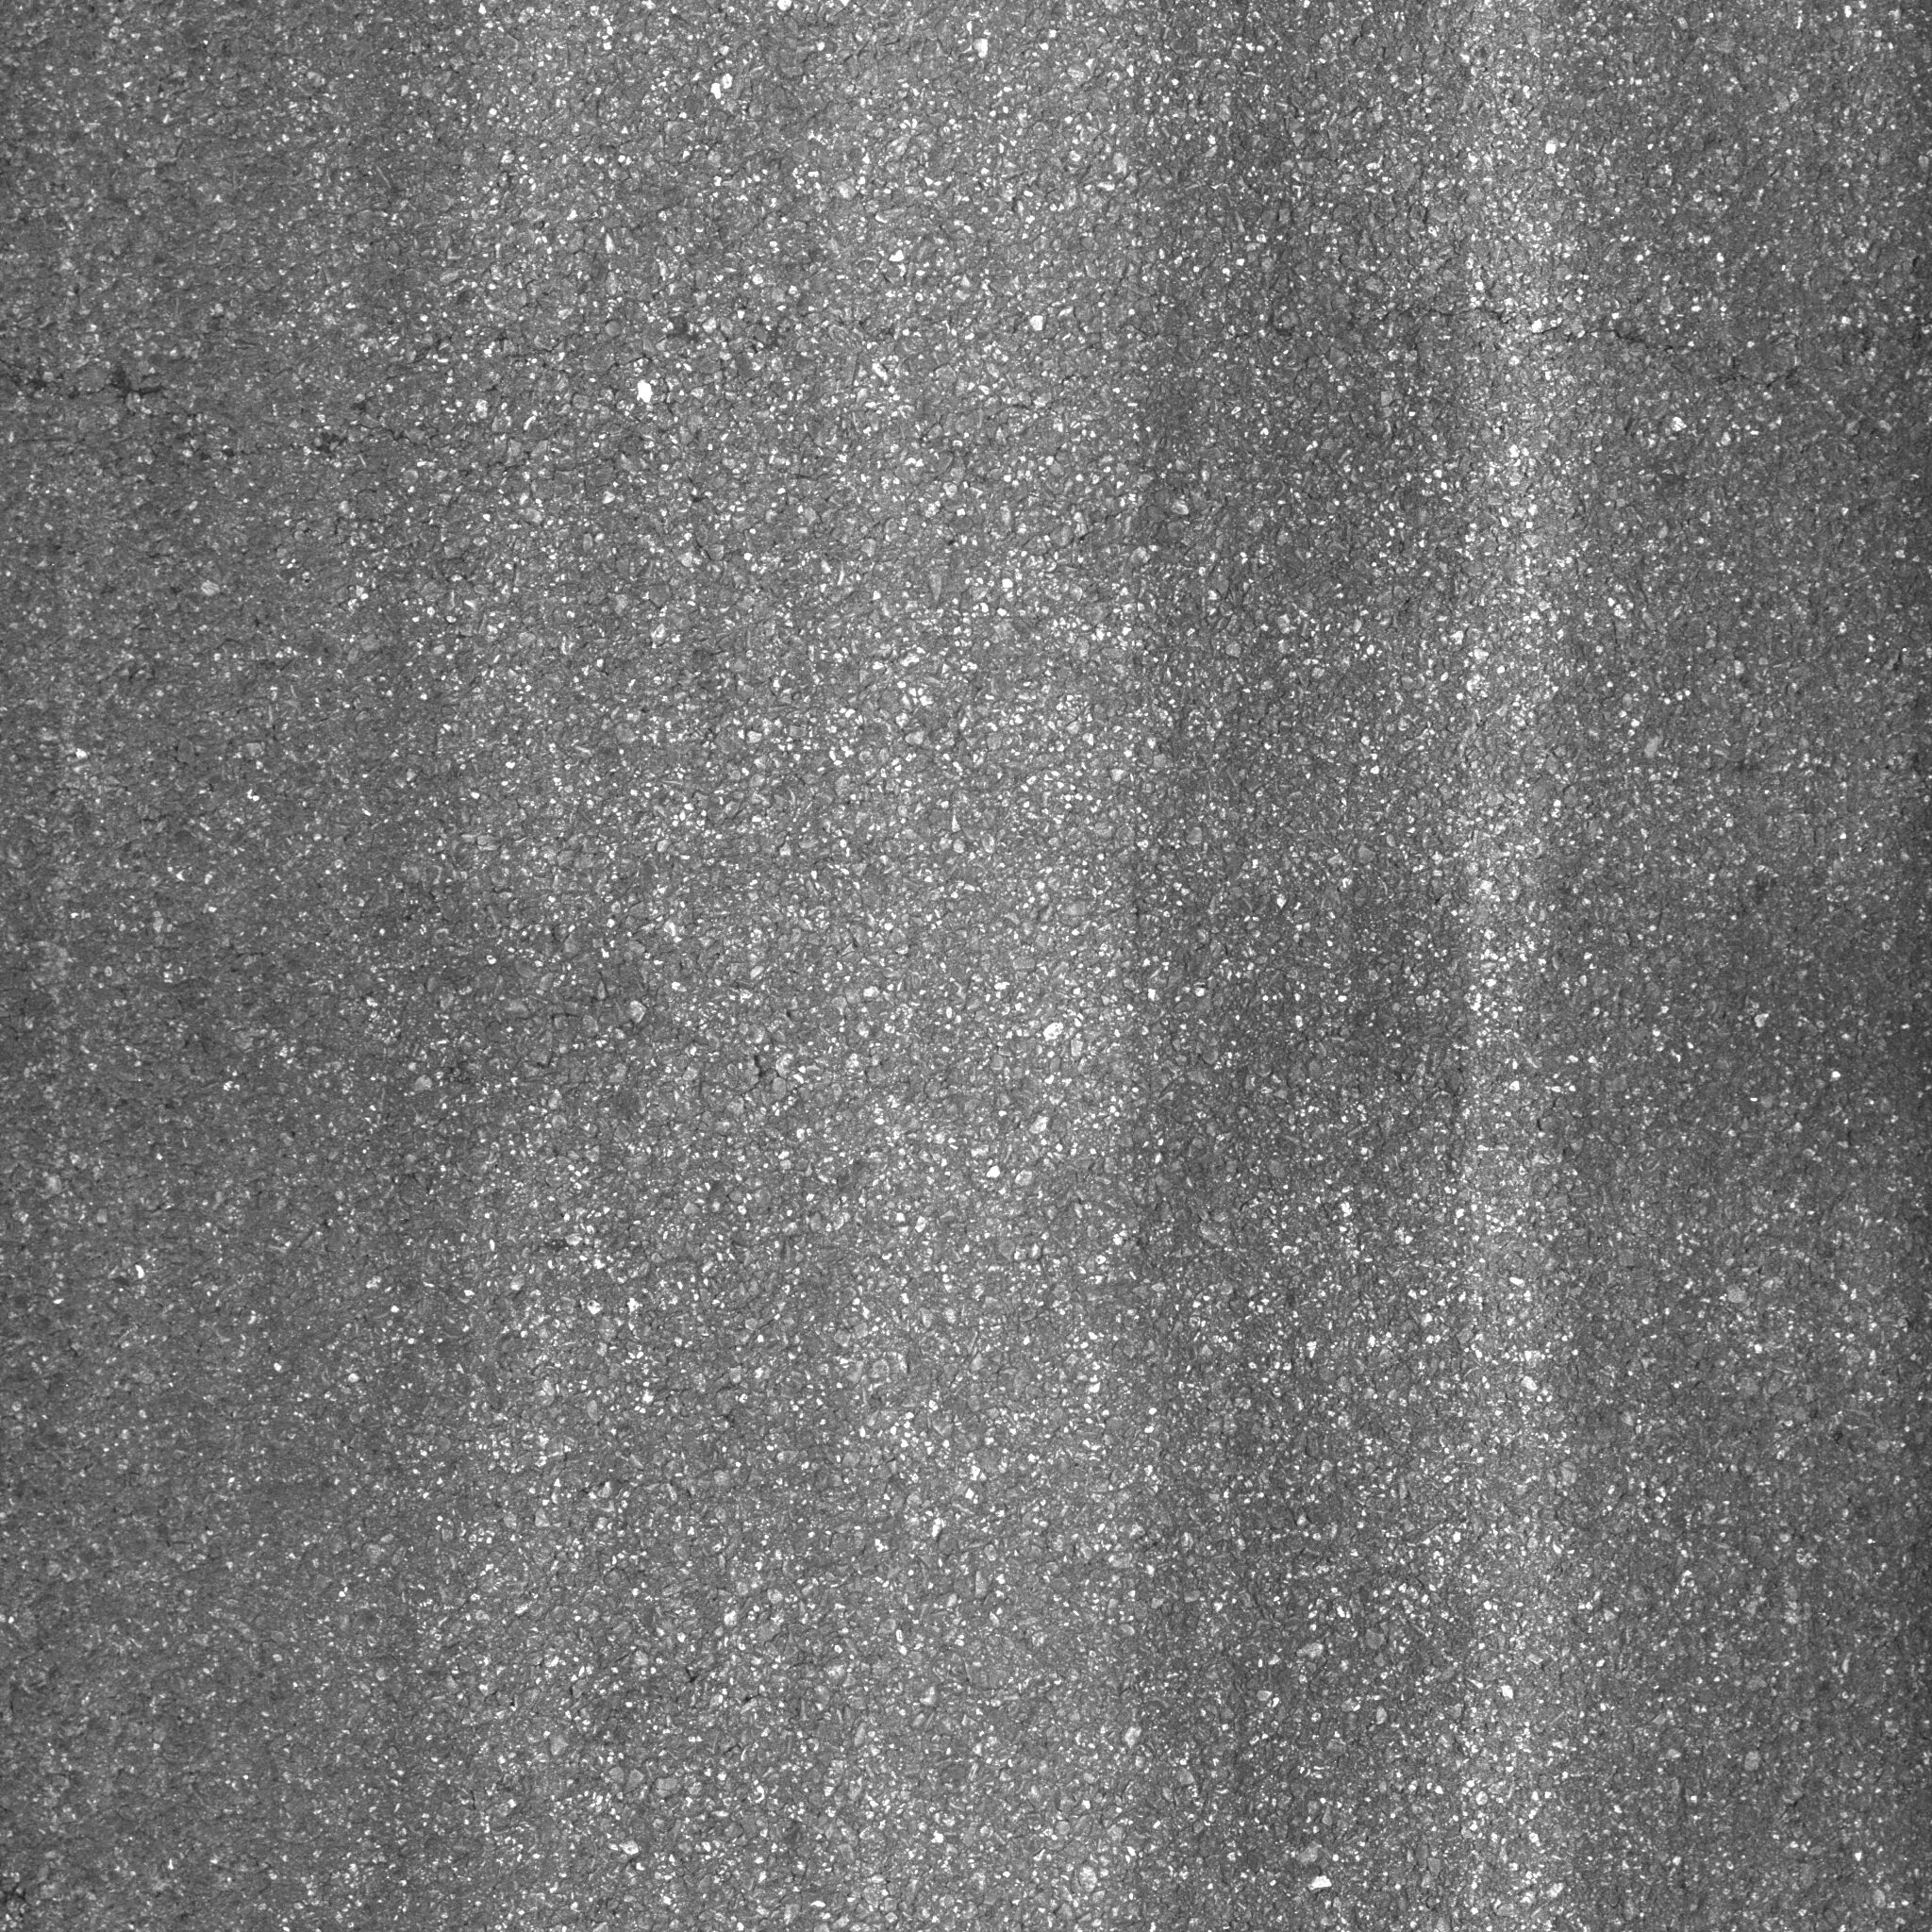transeverse: (21, 306, 603, 487), (1306, 269, 1932, 400)
